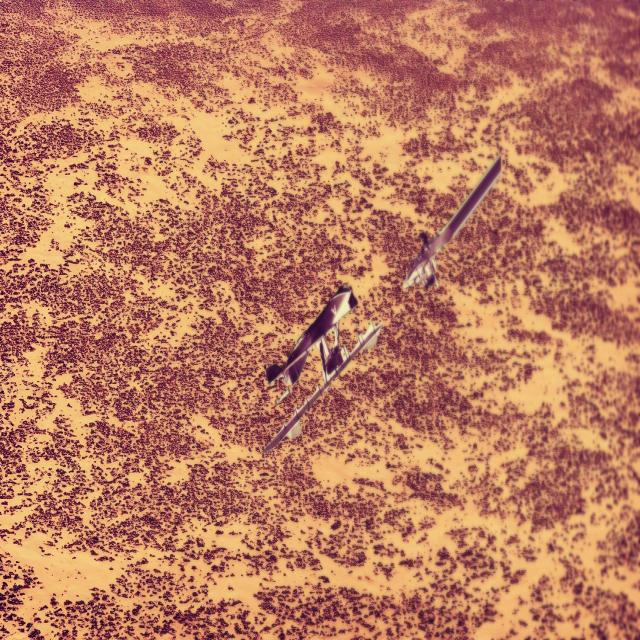airplane: (262, 284, 383, 454), (402, 154, 502, 292)
